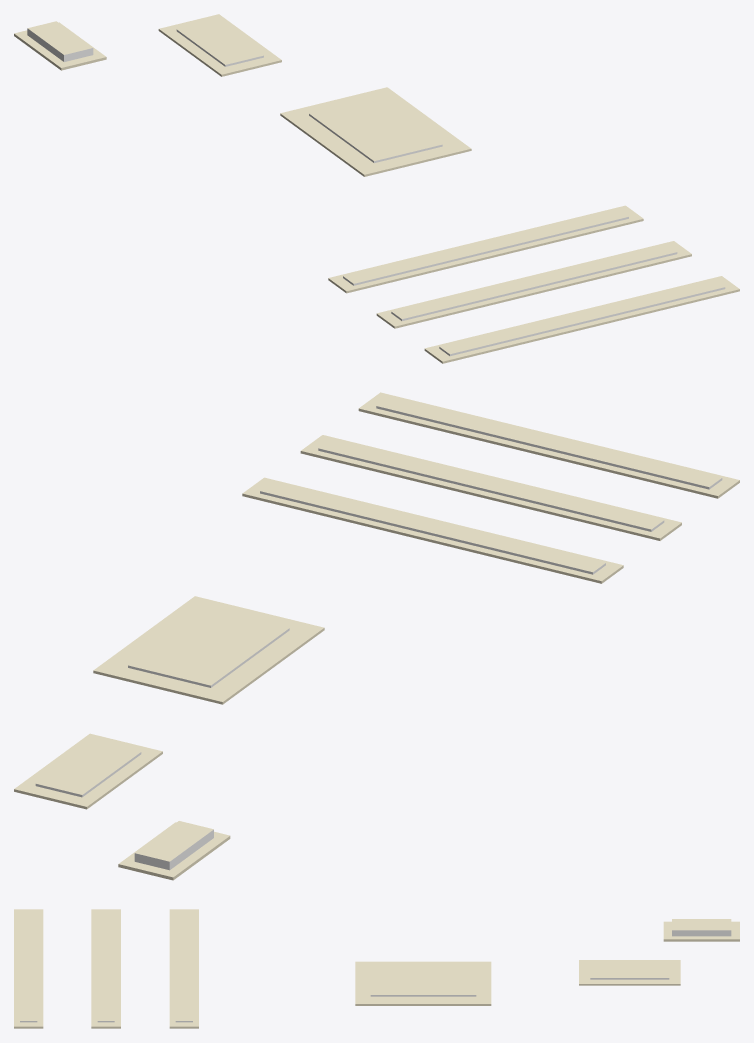
File: CeilingBlocks01_v2.FBX
The picture shows the model from 3 angles, top to bottom: view 1: azimuth 30°, elevation 25°; view 2: azimuth 150°, elevation 25°; view 3: azimuth 270°, elevation 25°; orthographic projection. The views are drawn at different scales.
Parts seen in each view (by area): view 1: Box030, Box031, Box032, Box033, Box028, Box029; view 2: Box030, Box031, Box033, Box032, Box028, Box029; view 3: Box030, Box031, Box032, Box033, Box028, Box029.
Boxes of the visible parts, <box> form: Box030: <box>280,87,471,176</box>; Box031: <box>328,205,643,293</box>; Box032: <box>376,241,691,328</box>; Box033: <box>424,276,739,363</box>; Box028: <box>158,14,281,76</box>; Box029: <box>14,21,106,70</box>; Box030: <box>93,596,324,704</box>; Box031: <box>242,477,623,583</box>; Box033: <box>358,392,739,498</box>; Box032: <box>300,435,681,540</box>; Box028: <box>14,733,162,809</box>; Box029: <box>118,821,230,880</box>; Box030: <box>355,961,491,1005</box>; Box031: <box>169,909,198,1028</box>; Box032: <box>91,909,120,1028</box>; Box033: <box>14,909,43,1028</box>; Box028: <box>579,960,680,985</box>; Box029: <box>663,919,739,941</box>.
Size of the model in its own units: 2107 by 65.61 by 5508.
